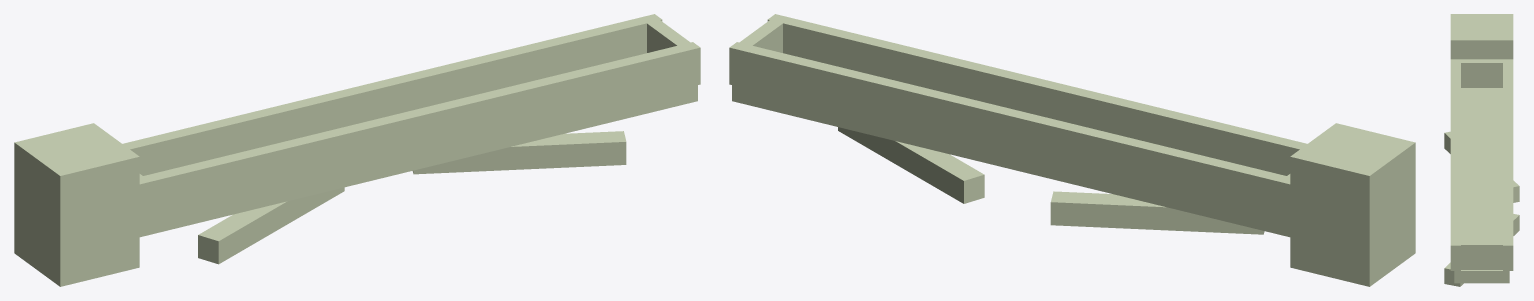
Rendered from furniture_signal_cantilever_cable_tray.glb.
3 renders of one model, left to right at view 1: azimuth 30°, elevation 25°; view 2: azimuth 150°, elevation 25°; view 3: azimuth 270°, elevation 25°, orthographic. The views are drawn at different scales.
Parts seen in each view (by area): view 1: rail_left, rail_right, mast_clamp, tray_base, support_brace_right, support_brace_left, end_plate_outer; view 2: rail_right, rail_left, mast_clamp, tray_base, support_brace_left, support_brace_right, end_plate_outer; view 3: tray_base, mast_clamp, rail_left, rail_right, end_plate_outer, end_plate_inner, support_brace_right, support_brace_left.
Part boxes in pixels (box(x1,y1,x2,y2)): rail_left: box(135, 42, 700, 221); rail_right: box(123, 14, 662, 175); mast_clamp: box(14, 123, 139, 286); tray_base: box(139, 85, 697, 237); support_brace_right: box(412, 131, 626, 174); support_brace_left: box(198, 187, 344, 264); end_plate_outer: box(643, 17, 691, 52); rail_right: box(729, 42, 1294, 221); rail_left: box(767, 14, 1306, 175); mast_clamp: box(1290, 123, 1415, 286); tray_base: box(732, 85, 1290, 237); support_brace_left: box(1050, 191, 1264, 234); support_brace_right: box(838, 127, 984, 203); end_plate_outer: box(737, 16, 785, 52); tray_base: box(1454, 88, 1509, 283); mast_clamp: box(1450, 14, 1513, 59); rail_left: box(1450, 59, 1460, 270); rail_right: box(1503, 59, 1513, 270); end_plate_outer: box(1454, 240, 1509, 269); end_plate_inner: box(1454, 59, 1507, 87); support_brace_right: box(1444, 214, 1519, 286); support_brace_left: box(1444, 131, 1519, 202).
Size of the model in its own units: 1.45 by 0.265 by 0.2165.
